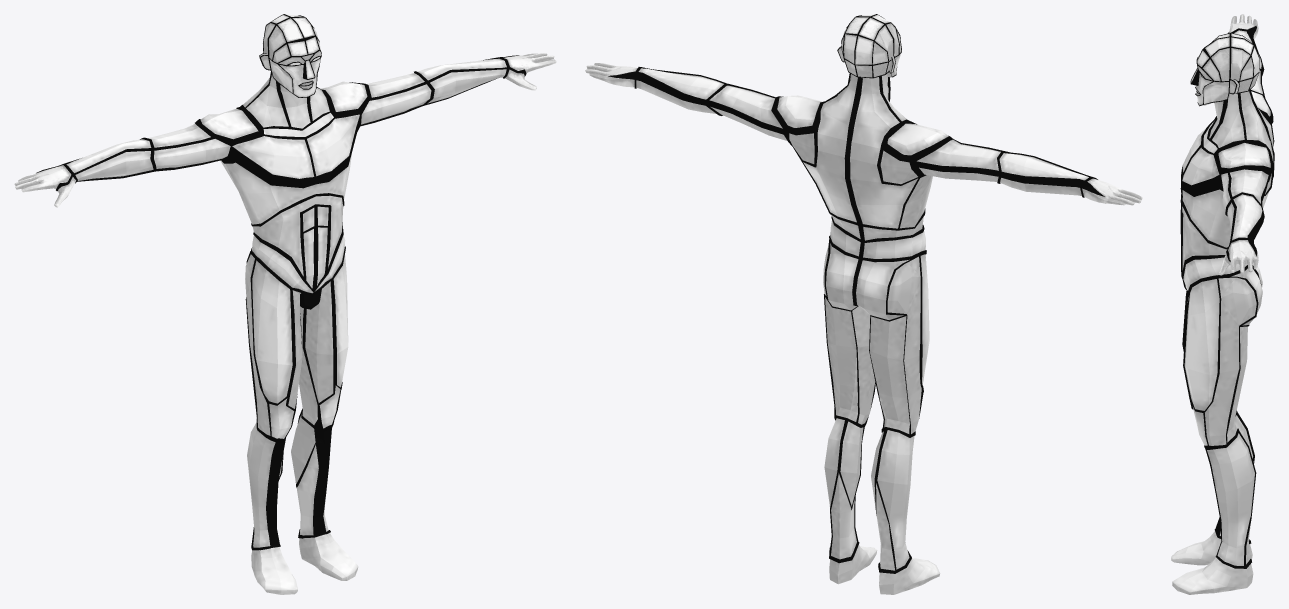
The model's file is orion.glb.
The picture shows the model from 3 angles, left to right: view 1: azimuth 30°, elevation 25°; view 2: azimuth 150°, elevation 25°; view 3: azimuth 270°, elevation 25°; orthographic projection. The views are drawn at different scales.
Parts seen in each view (by area): view 1: Orion; view 2: Orion; view 3: Orion.
Boxes of the visible parts, box(x1,y1,x2,y2) form: Orion: box(14, 14, 556, 594); Orion: box(585, 14, 1142, 594); Orion: box(1171, 14, 1274, 594).
Bounding box in the file's own units: 1.24 × 1.21 × 0.2103.
1 material, 1 textured.
